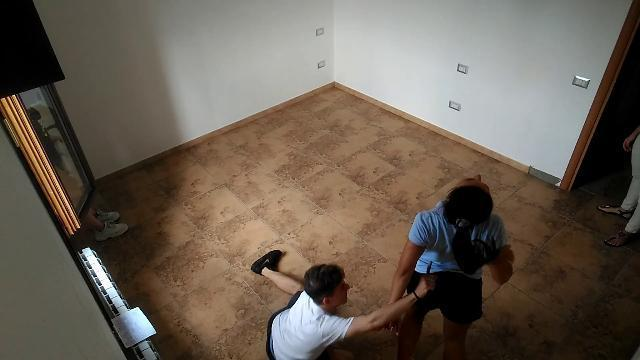knife: (422, 261, 433, 277)
non-violence: (25, 102, 129, 246), (596, 126, 640, 248)
violence: (252, 172, 512, 360)
